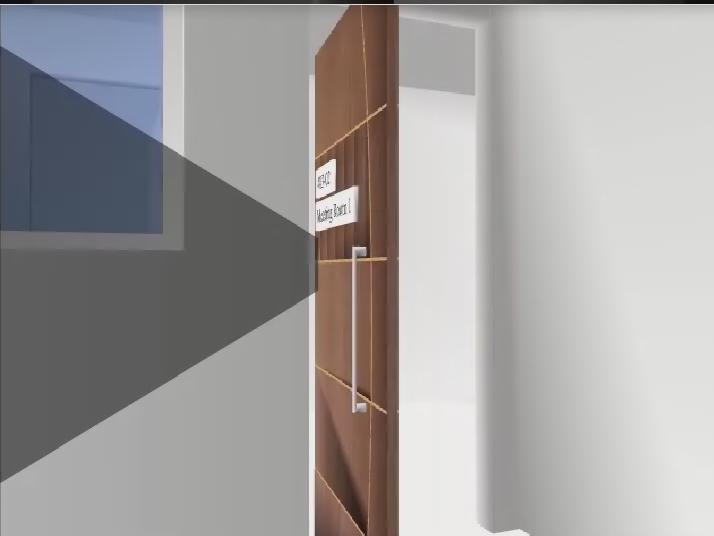door: (315, 4, 398, 536)
